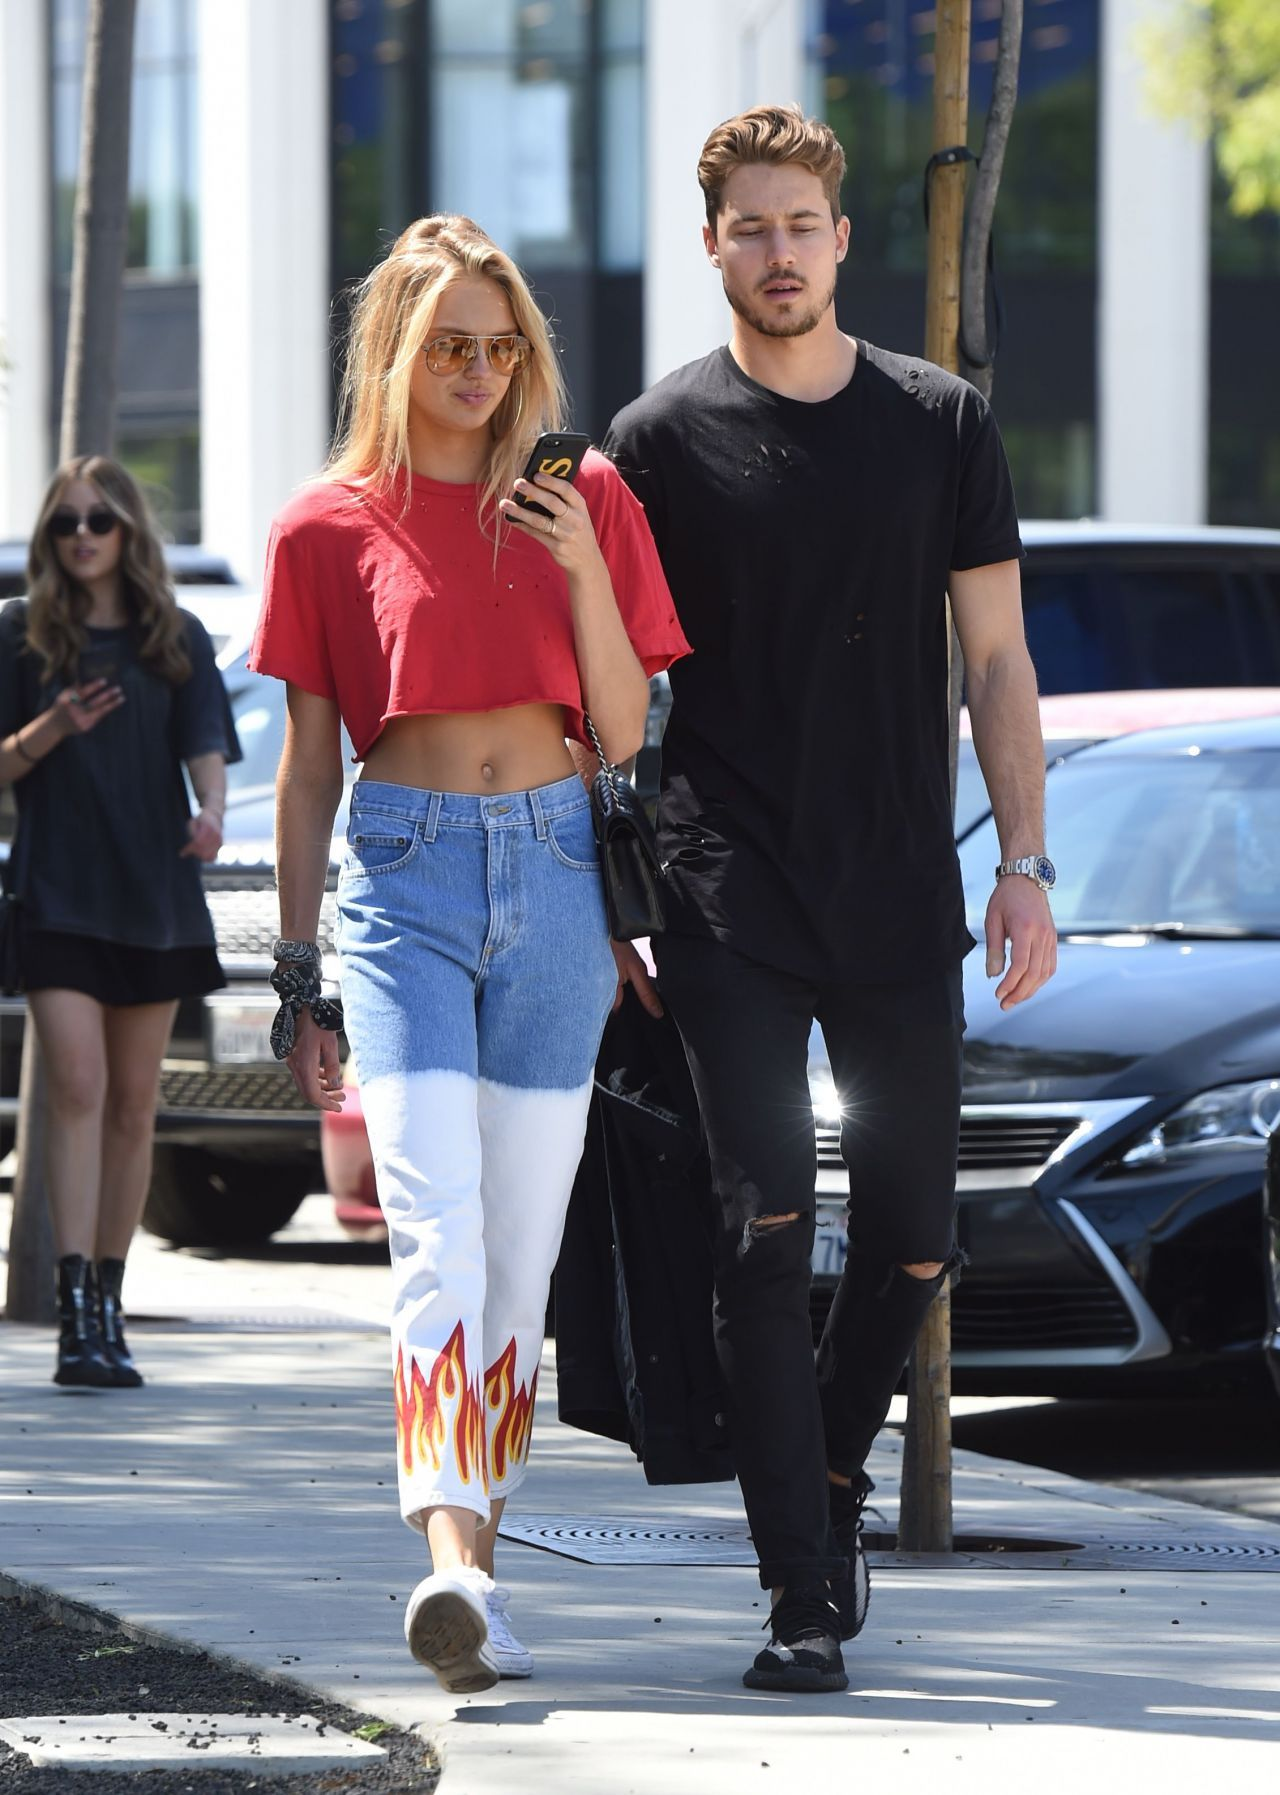Person: (596, 102, 1064, 1697), (245, 212, 691, 1700), (1, 450, 243, 1393)
